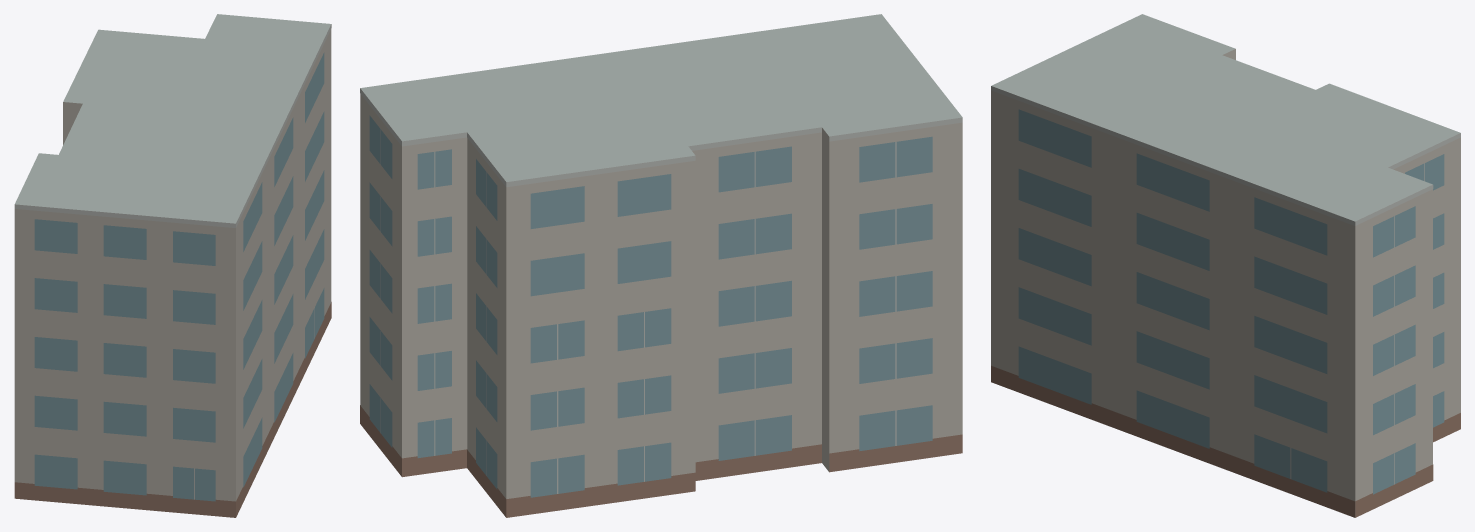
Rendered from survey-upis-32988232.glb.
3 renders of one model, left to right at view 1: azimuth 30°, elevation 25°; view 2: azimuth 150°, elevation 25°; view 3: azimuth 270°, elevation 25°, orthographic. The views are drawn at different scales.
Parts seen in each view (by area): view 1: survey-upis-32988232.tmp; view 2: survey-upis-32988232.tmp; view 3: survey-upis-32988232.tmp.
Boxes of the visible parts, x1,y1,x2,y2 form: survey-upis-32988232.tmp: (14, 14, 331, 517); survey-upis-32988232.tmp: (360, 14, 962, 517); survey-upis-32988232.tmp: (991, 14, 1460, 517).
Size of the model in its own units: 24.05 by 16 by 23.
